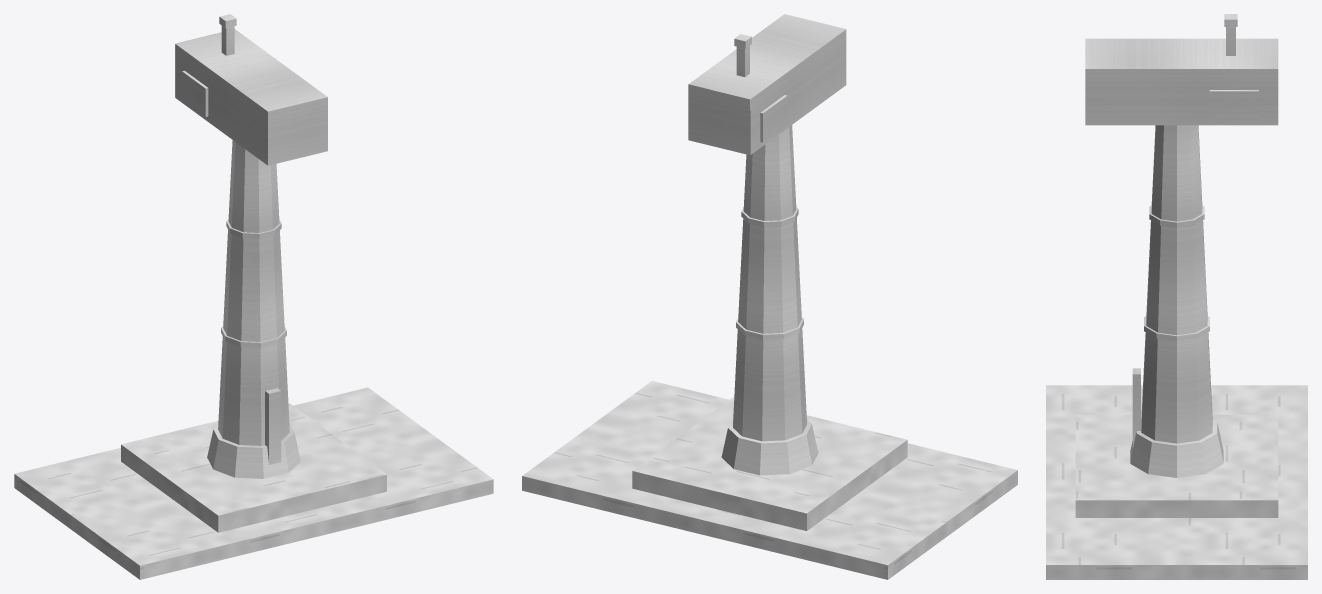
File: wind_turbine.obj
The picture shows the model from 3 angles, left to right: view 1: azimuth 30°, elevation 25°; view 2: azimuth 150°, elevation 25°; view 3: azimuth 270°, elevation 25°; orthographic projection. The views are drawn at different scales.
Parts seen in each view (by area): view 1: wind_turbine; view 2: wind_turbine; view 3: wind_turbine.
Part boxes in pixels (x1,y1,x2,y2): wind_turbine: [14, 14, 493, 579]; wind_turbine: [522, 14, 1017, 579]; wind_turbine: [1046, 14, 1307, 579].
Size of the model in its own units: 2.6 by 3.19 by 1.6.
